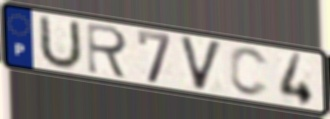4: (277, 51, 316, 109)
7: (136, 28, 174, 85)
C: (228, 46, 271, 99)
R: (85, 21, 130, 82)
U: (37, 13, 84, 72)
V: (177, 33, 225, 93)
